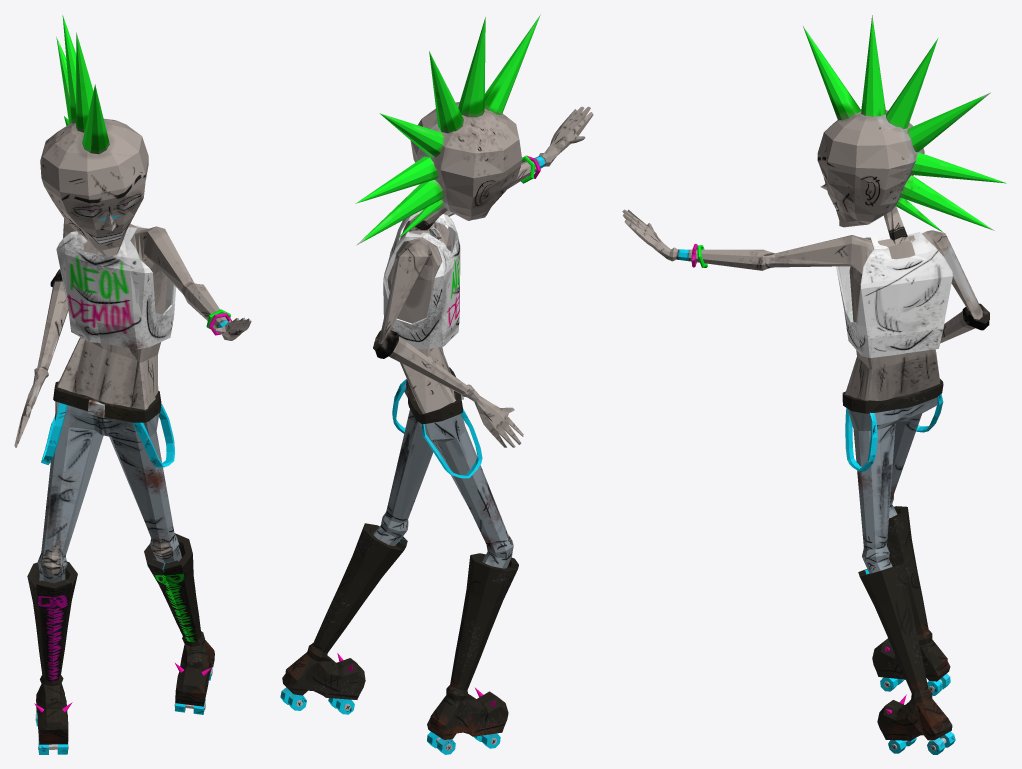
Rendered from punkAnimation_000015.obj.
3 renders of one model, left to right at view 1: azimuth 30°, elevation 25°; view 2: azimuth 150°, elevation 25°; view 3: azimuth 270°, elevation 25°, orthographic. The views are drawn at different scales.
Parts seen in each view (by area): view 1: Cube.004_Cube.003; view 2: Cube.004_Cube.003; view 3: Cube.004_Cube.003.
Part boxes in pixels (x1,y1,x2,y2): Cube.004_Cube.003: (14, 15, 251, 754); Cube.004_Cube.003: (280, 14, 593, 754); Cube.004_Cube.003: (622, 15, 1006, 754).
Size of the model in its own units: 2.36 by 7.42 by 3.82.
